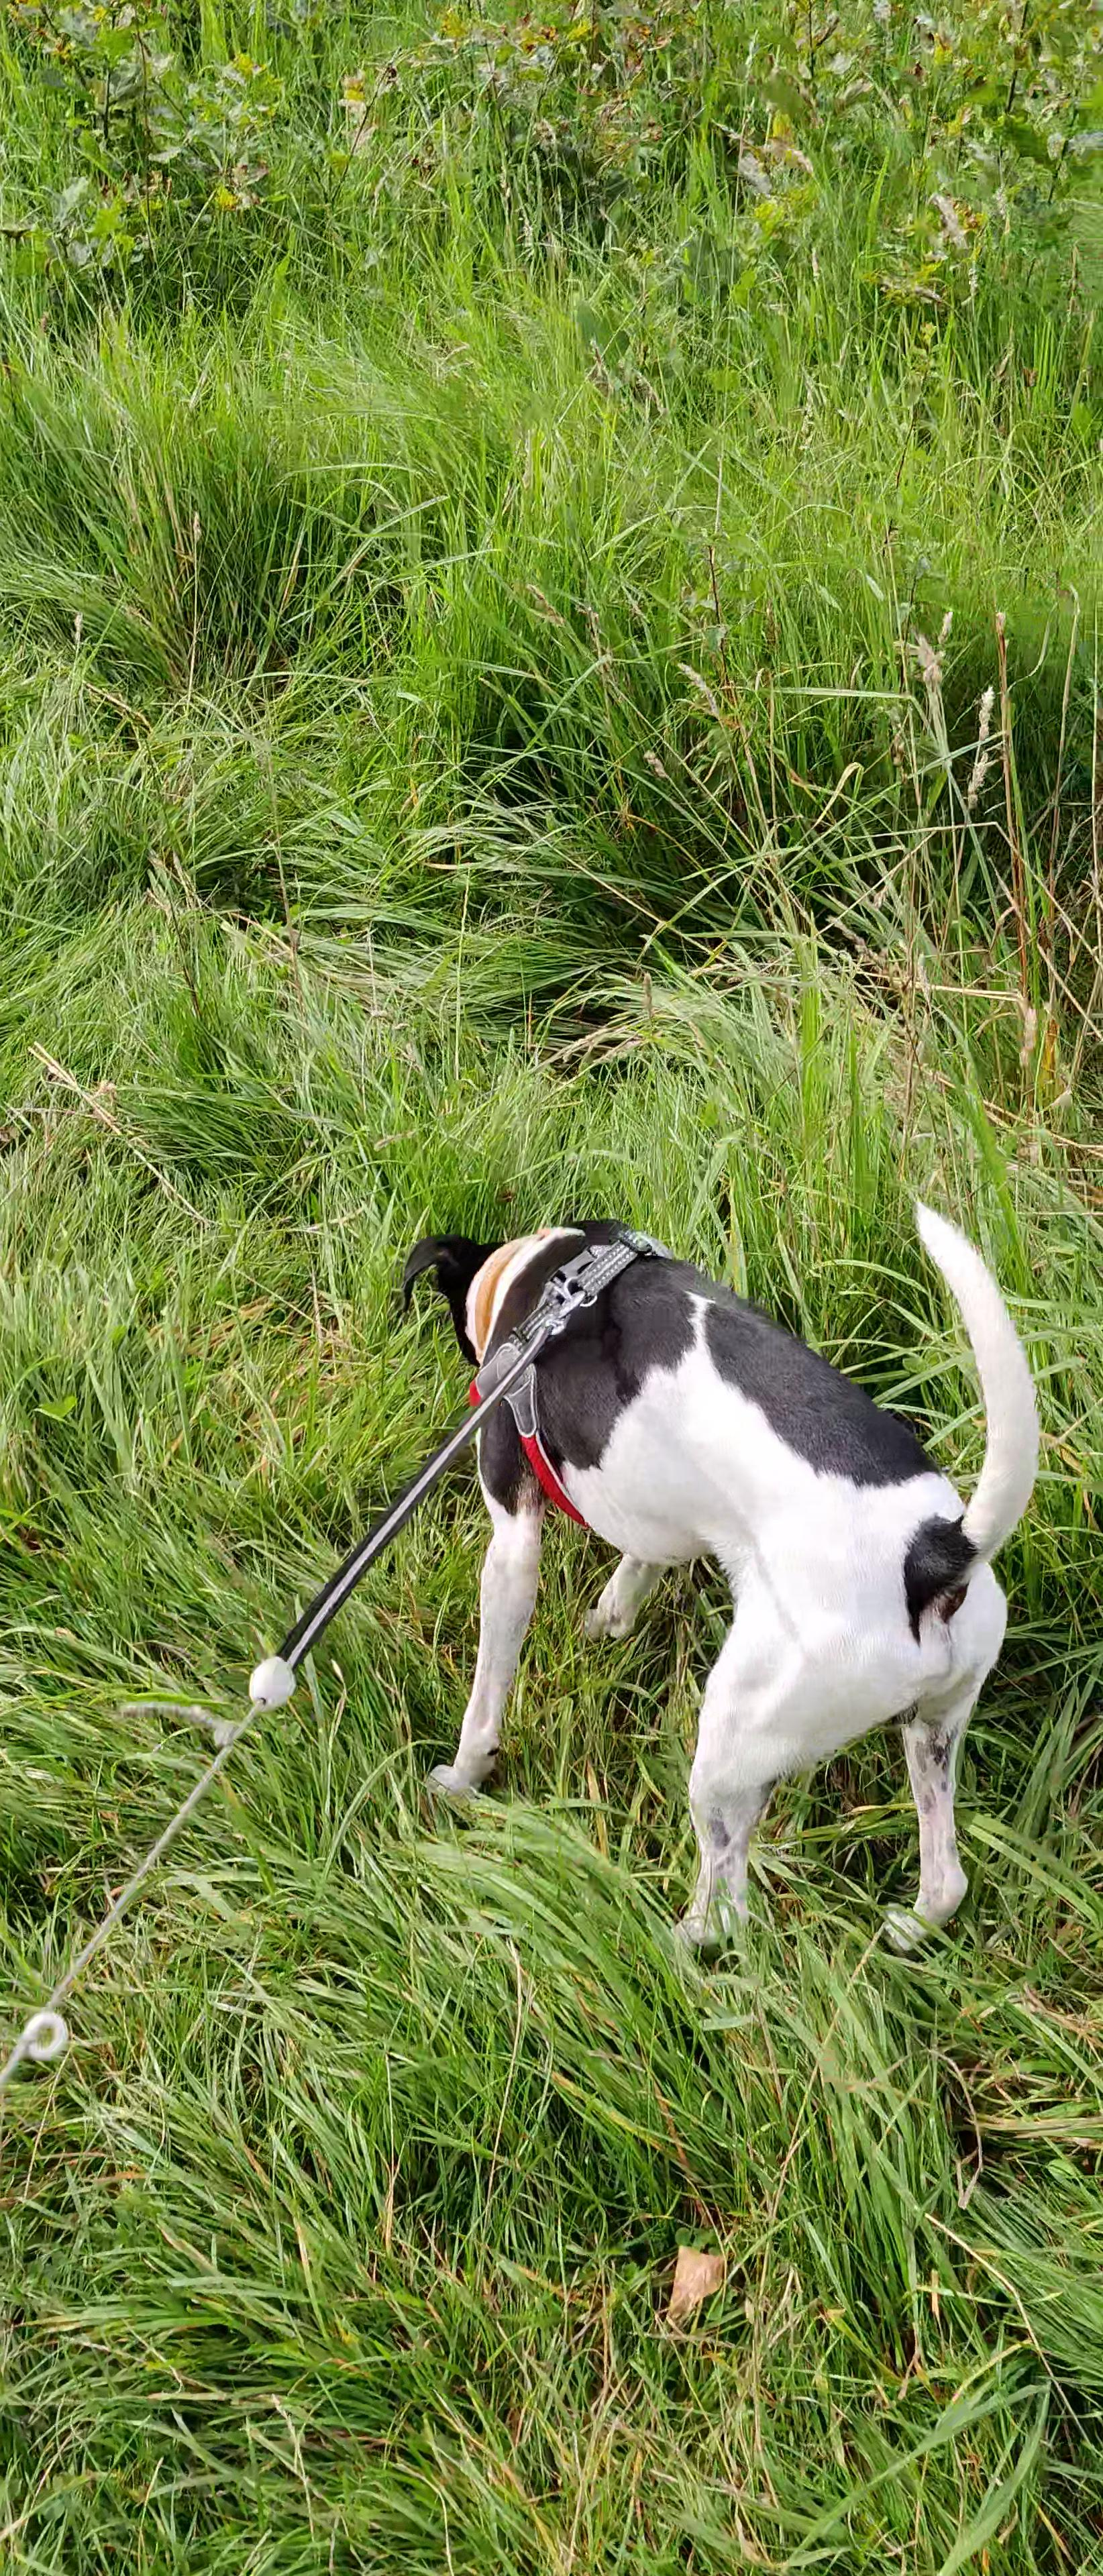Dog: (365, 1135, 1067, 1989)
